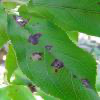Apple Scab Leaf: (7, 14, 99, 98)
